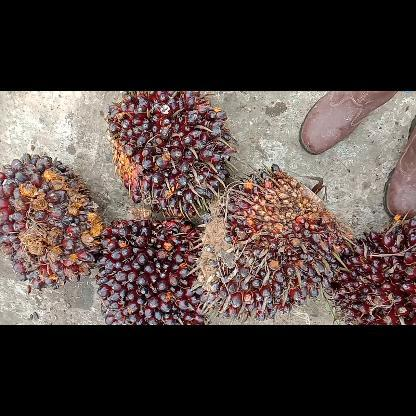Kurang masak: (192, 158, 354, 324), (105, 91, 233, 219), (0, 152, 106, 292), (95, 202, 215, 324), (327, 216, 415, 324)
